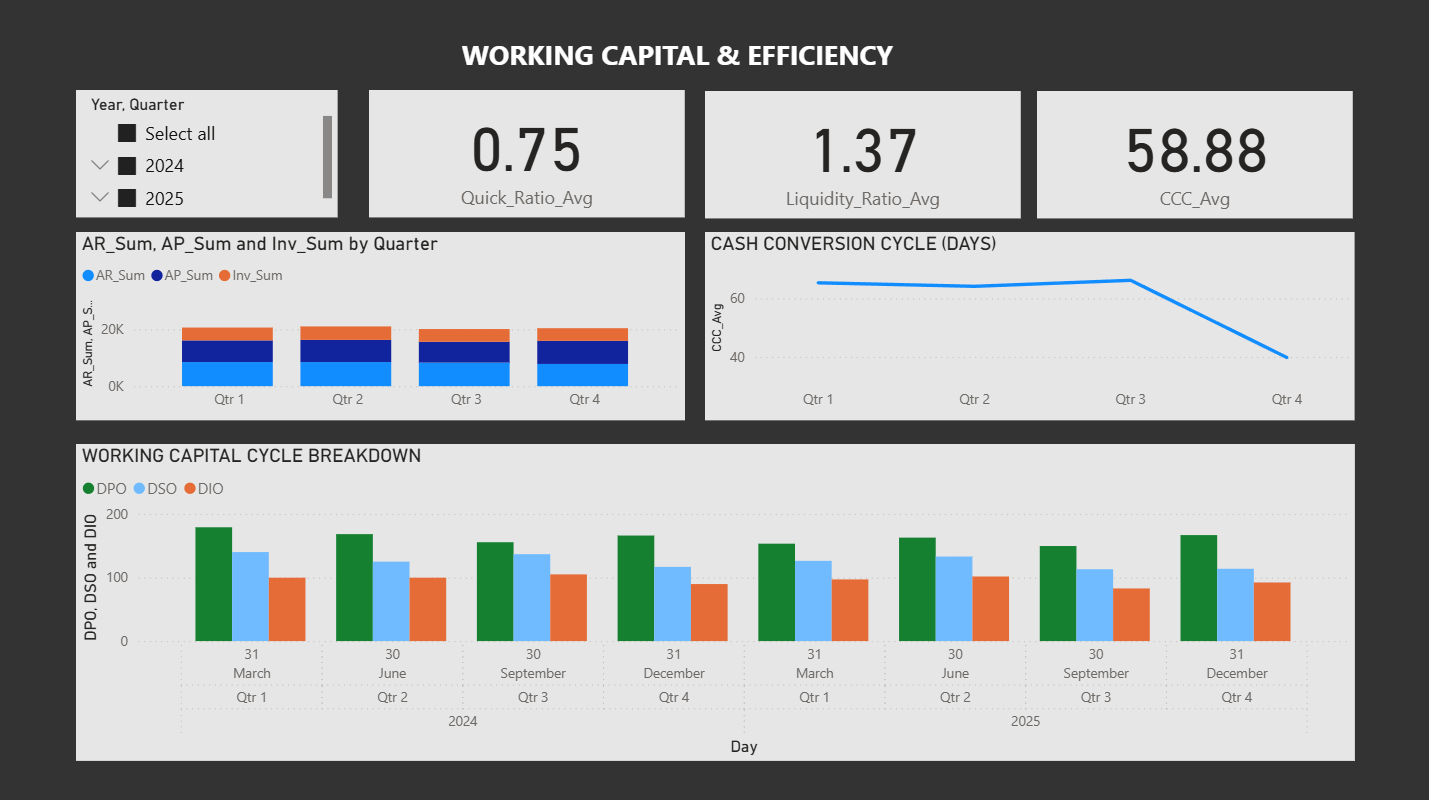

What the dashboard file says about the page in this screenshot:
{"tool":"powerbi","page":{"name":"WORKING CAPITAL & EFFICIENCY","canvas":[1280,720],"ordinal":1},"visuals":[{"type":"card","fields":{"Values":["Balance_Components.Liquidity_Ratio_Avg"]},"box":[633.1,85.1,280.2,112.6],"z":0},{"type":"card","fields":{"Values":["Balance_Components.Quick_Ratio_Avg"]},"box":[335.2,84.2,280.2,112.6],"z":1000},{"type":"card","fields":{"Values":["Balance_Components.CCC_Avg"]},"box":[927.5,85.1,280.2,112.6],"z":2000},{"type":"lineChart","title":"CASH CONVERSION CYCLE (DAYS)","fields":{"Category":["Calendar.Date.Variation.Date Hierarchy.Year","Calendar.Date.Variation.Date Hierarchy.Quarter"],"Y":["Balance_Components.CCC_Avg"]},"box":[633.1,210.1,576.4,166.7],"z":3000},{"type":"clusteredColumnChart","title":"WORKING CAPITAL CYCLE BREAKDOWN","fields":{"Y":["Balance_Components.DPO","Balance_Components.DSO","Balance_Components.DIO"],"Category":["Calendar.Date.Variation.Date Hierarchy.Year","Calendar.Date.Variation.Date Hierarchy.Quarter","Calendar.Date.Variation.Date Hierarchy.Month","Calendar.Date.Variation.Date Hierarchy.Day"]},"box":[75.4,398.1,1134.1,281.1],"z":4000},{"type":"slicer","fields":{"Values":["Calendar.Date.Variation.Date Hierarchy.Year","Calendar.Date.Variation.Date Hierarchy.Quarter"]},"box":[75.4,84.2,232.3,113.5],"z":5000},{"type":"columnChart","fields":{"Category":["Calendar.Date.Variation.Date Hierarchy.Quarter"],"Y":["Balance_Components.AR_Sum","Balance_Components.AP_Sum","Balance_Components.Inv_Sum"]},"box":[75.4,210.1,540,166.7],"z":6000},{"type":"textbox","box":[412.3,31,405.2,43.4],"z":6001}]}

Visuals, with their boxes in screenshot pixels (x1, y1, x2, y2), scaled from the page's 1280x720 canvas onto the 1429x800 screenshot:
card - Balance_Components.Liquidity_Ratio_Avg: {"x1": 707, "y1": 95, "x2": 1020, "y2": 220}
card - Balance_Components.Quick_Ratio_Avg: {"x1": 374, "y1": 94, "x2": 687, "y2": 219}
card - Balance_Components.CCC_Avg: {"x1": 1035, "y1": 95, "x2": 1348, "y2": 220}
"CASH CONVERSION CYCLE (DAYS)" lineChart: {"x1": 707, "y1": 233, "x2": 1350, "y2": 419}
"WORKING CAPITAL CYCLE BREAKDOWN" clusteredColumnChart: {"x1": 84, "y1": 442, "x2": 1350, "y2": 755}
slicer - Calendar.Date.Variation.Date Hierarchy.Year x Calendar.Date.Variation.Date Hierarchy.Quarter: {"x1": 84, "y1": 94, "x2": 344, "y2": 220}
columnChart - Calendar.Date.Variation.Date Hierarchy.Quarter x Balance_Components.AR_Sum: {"x1": 84, "y1": 233, "x2": 687, "y2": 419}
textbox: {"x1": 460, "y1": 34, "x2": 913, "y2": 83}
